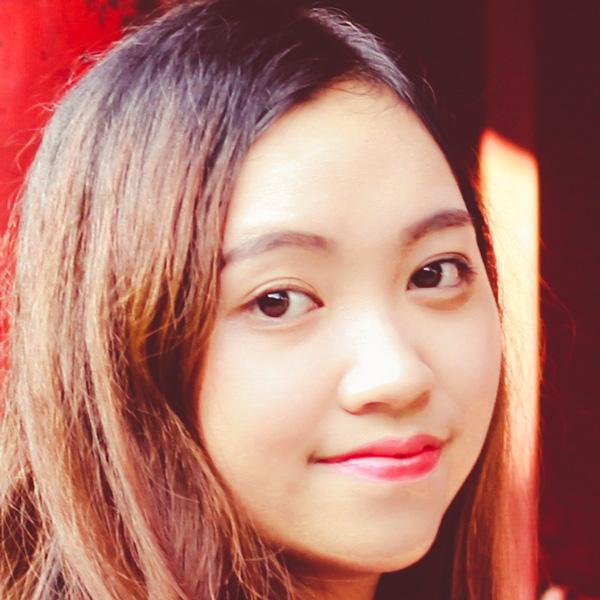Eyes: (230, 264, 331, 339), (396, 237, 479, 309)
